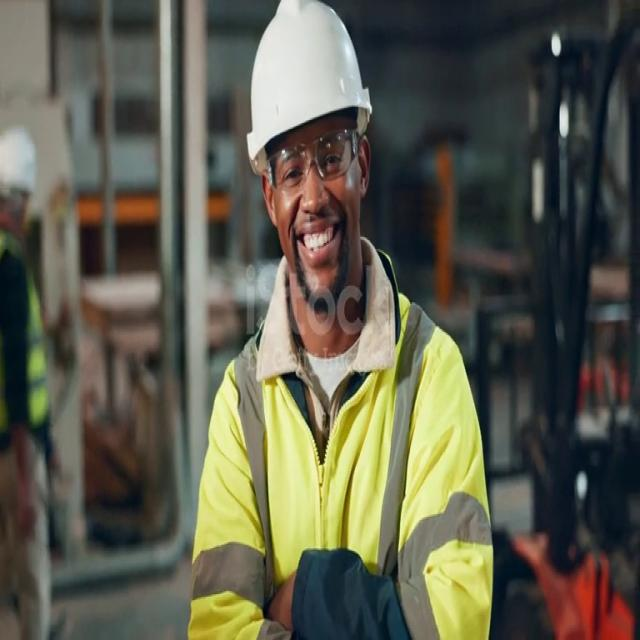capacete: (223, 2, 383, 172)
